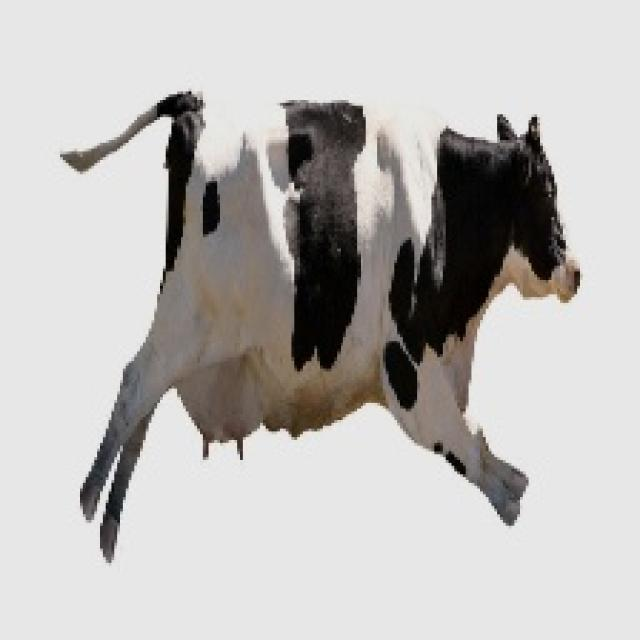animal: (63, 49, 607, 594)
